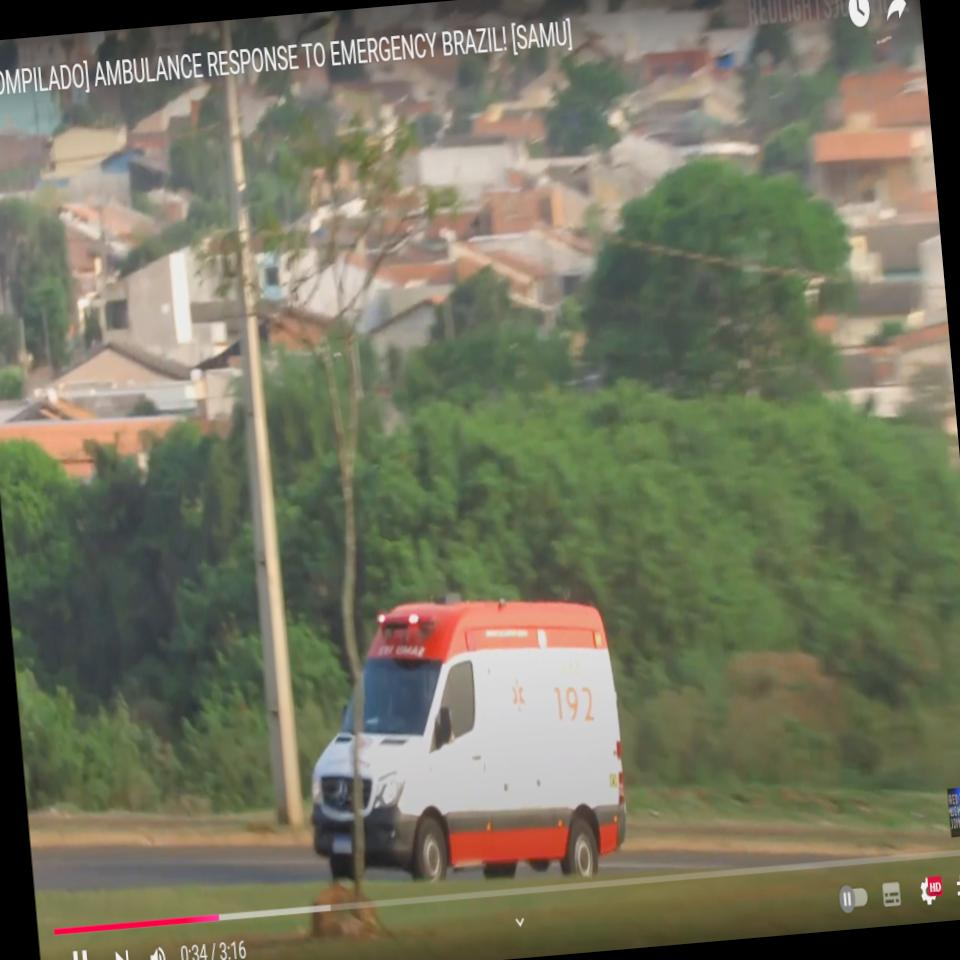bombeiro: (294, 579, 634, 904)
